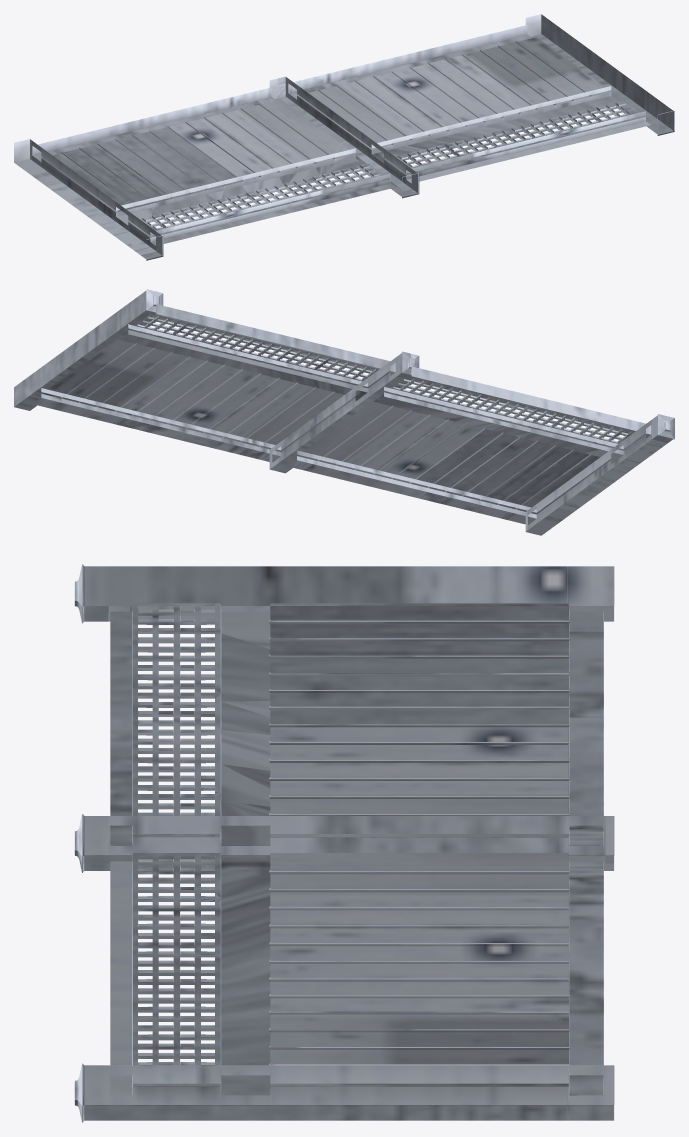
File: hang_rao_tuong_trang.glb
The picture shows the model from 3 angles, top to bottom: view 1: azimuth 30°, elevation 25°; view 2: azimuth 150°, elevation 25°; view 3: azimuth 270°, elevation 25°; orthographic projection. The views are drawn at different scales.
Parts seen in each view (by area): view 1: Vinyl_Privacy_Fence_with_Lattice07; view 2: Vinyl_Privacy_Fence_with_Lattice07; view 3: Vinyl_Privacy_Fence_with_Lattice07.
Boxes of the visible parts, box(x1,y1,x2,y2) form: Vinyl_Privacy_Fence_with_Lattice07: box(14, 14, 674, 260); Vinyl_Privacy_Fence_with_Lattice07: box(14, 289, 674, 535); Vinyl_Privacy_Fence_with_Lattice07: box(74, 564, 614, 1122).
Size of the model in its own units: 743 by 28.63 by 328.
Materials: 1 (1 with a texture image).
